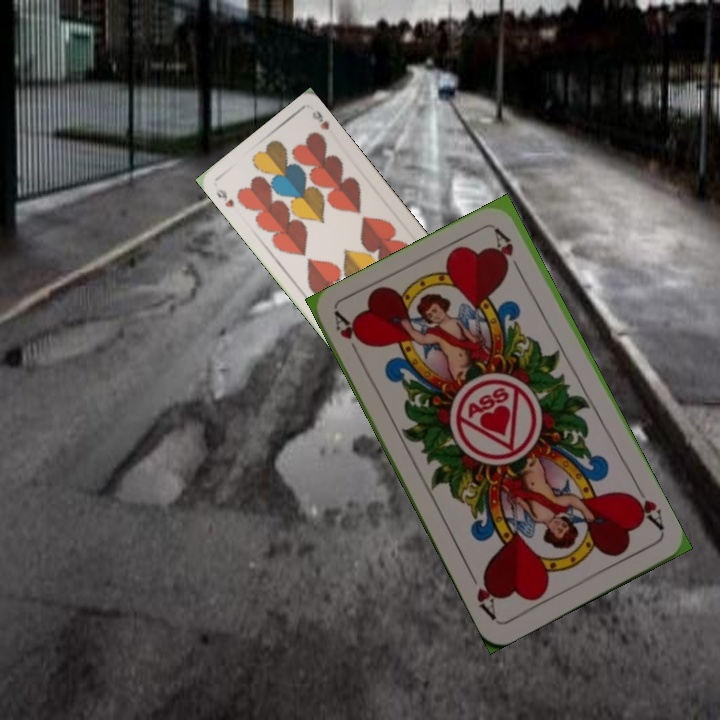H9: (212, 184, 237, 211)
HA: (623, 481, 668, 535), (330, 309, 367, 365)
